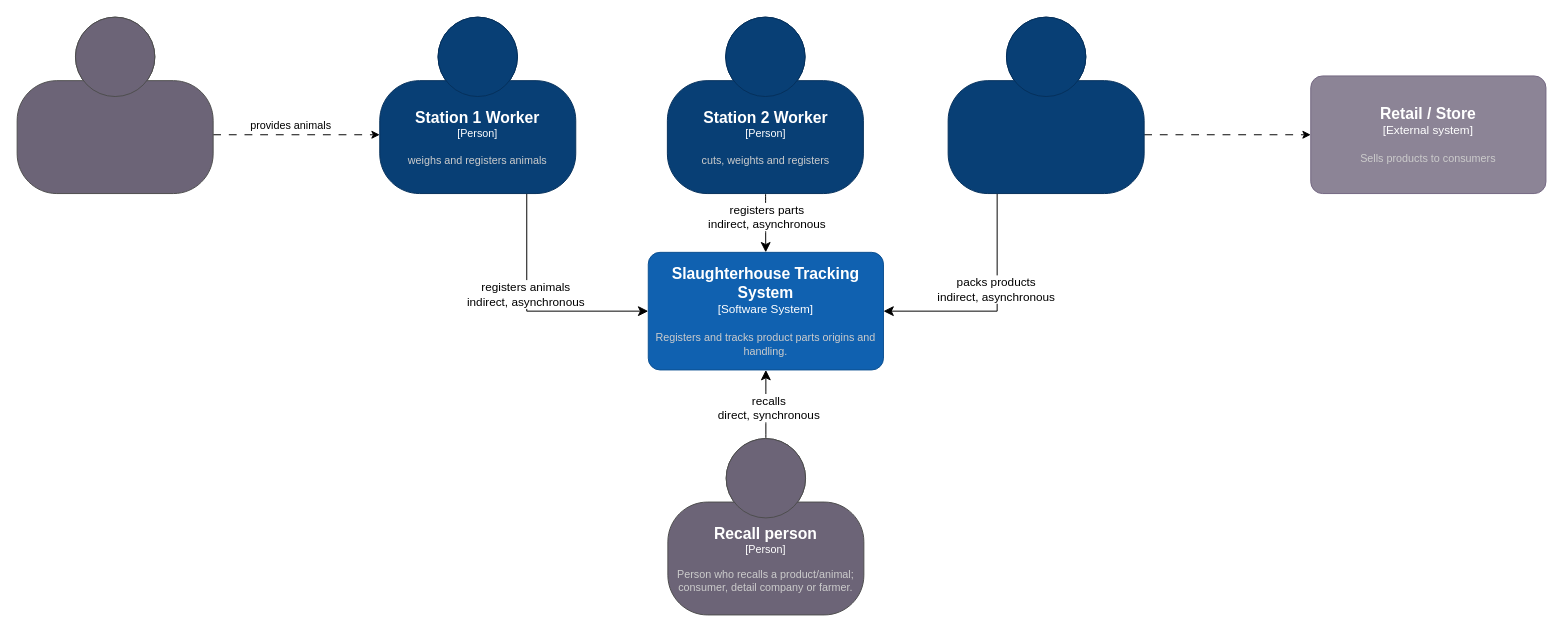
Some shapes in this 1563 by 632 pixel diagram are drawn without their labels. The shapes that lost their labels are listed below. From the top down, each one's box as (x1, y1, x2, y2) in pixels, then its label:
(16, 16, 213, 194): Farmer / Supplier [Person / Company] Supplies animals
(947, 16, 1144, 194): Station 3 Worker [Person] packs products
